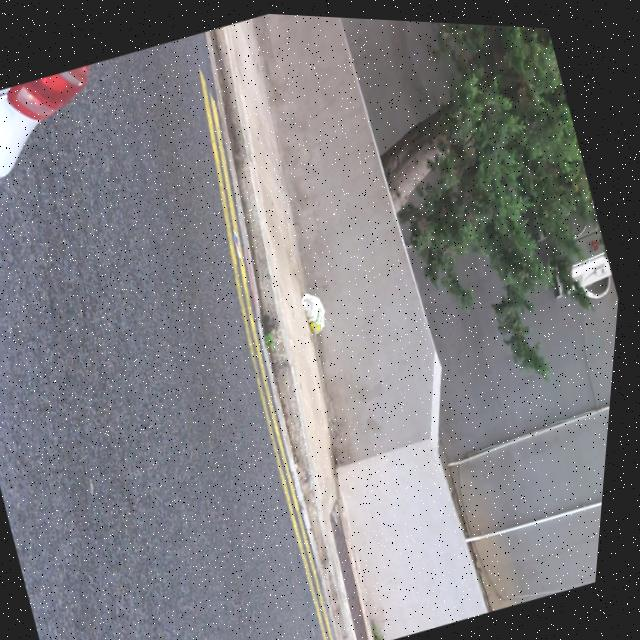Other: (291, 274, 346, 348)
